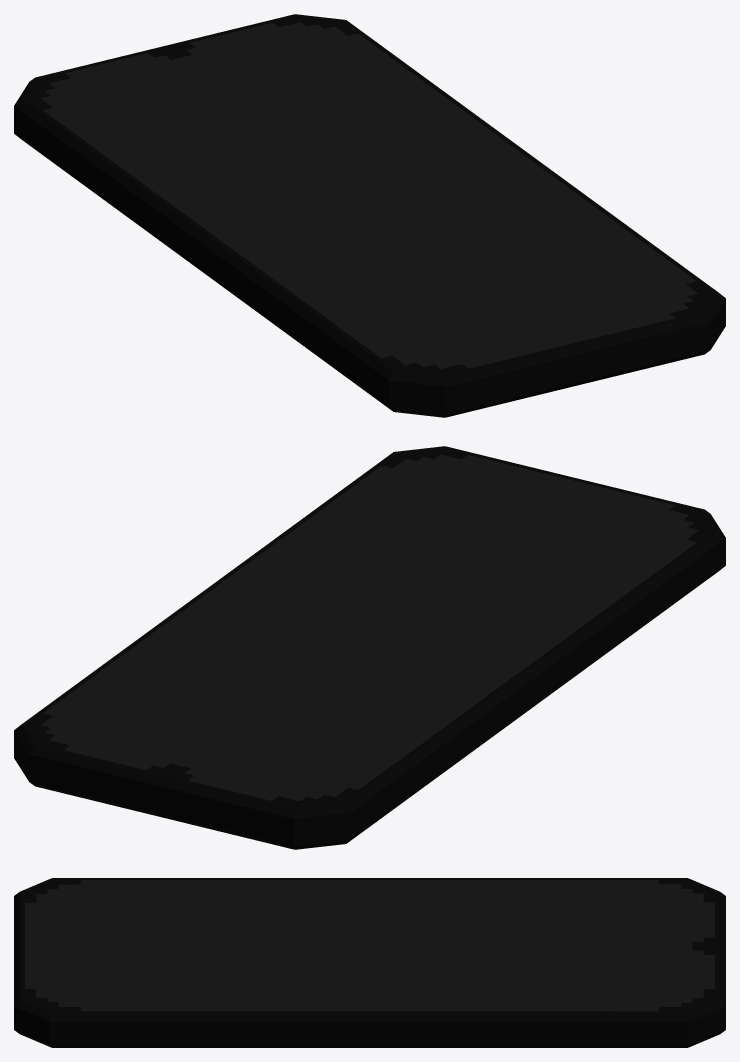
Rendered from Phone.fbx.
The picture shows the model from 3 angles, top to bottom: view 1: azimuth 30°, elevation 25°; view 2: azimuth 150°, elevation 25°; view 3: azimuth 270°, elevation 25°; orthographic projection. The views are drawn at different scales.
Parts seen in each view (by area): view 1: Phone; view 2: Phone; view 3: Phone.
Boxes of the visible parts, box(x1,y1,x2,y2) form: Phone: box(14, 14, 725, 417); Phone: box(14, 446, 725, 849); Phone: box(14, 878, 725, 1047).
Size of the model in its own units: 1.4 by 0.1947 by 3.
